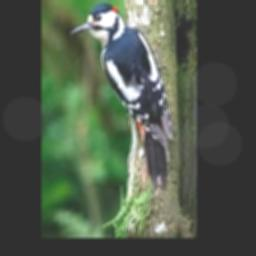Woodpecker: (70, 2, 173, 191)
